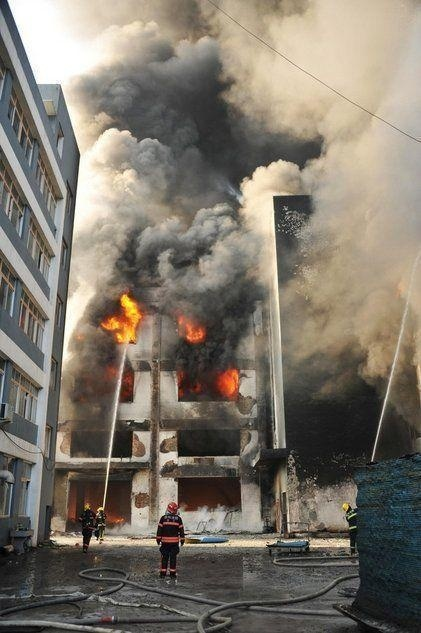fire: (101, 293, 141, 343), (175, 315, 206, 340), (217, 366, 238, 396)
